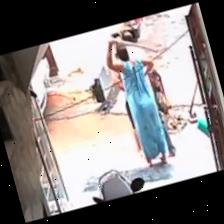person: (106, 39, 167, 166)
